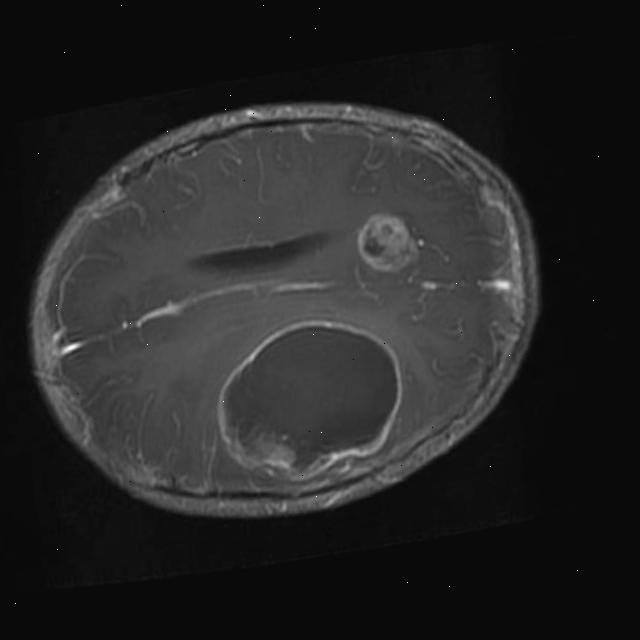Glioma: (203, 301, 414, 496), (350, 203, 425, 278)
